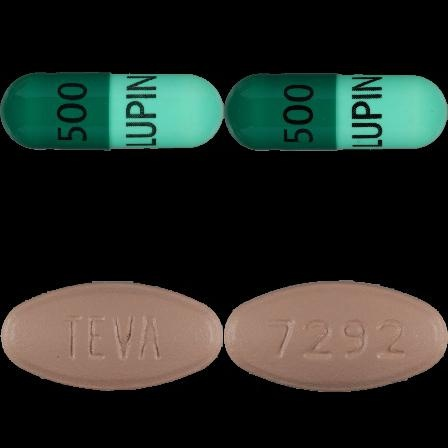63187-046: (0, 0, 224, 224)
